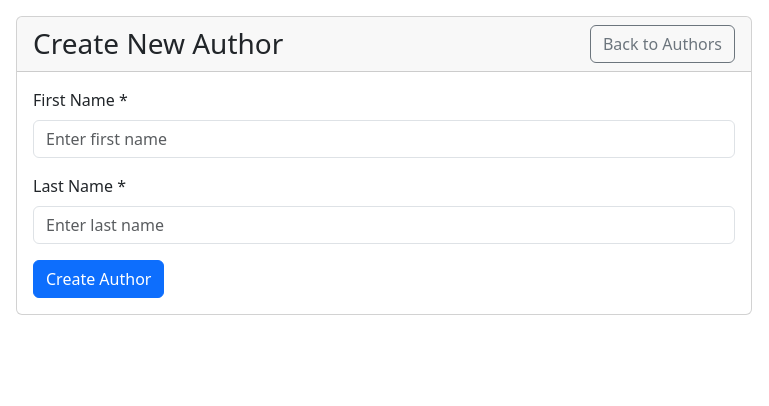
Test case: AuthorCreate › shows API error message when creation fails
In the field labelled "First Name *": (384, 139) [33,120,735,158], type "Jane"
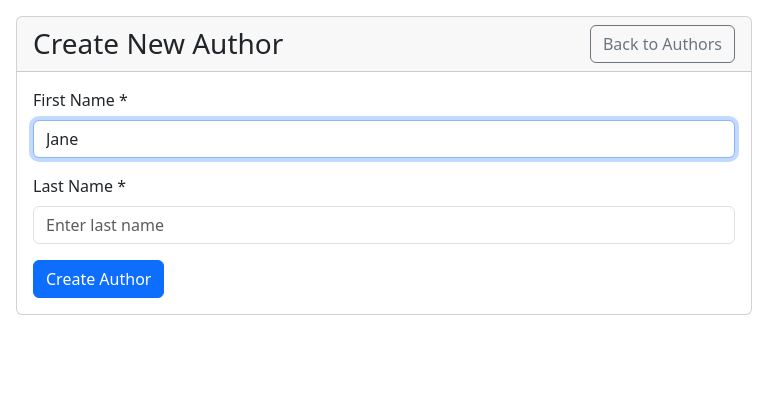
In the field labelled "Last Name *": (384, 225) [33,206,735,244], type "Smith"
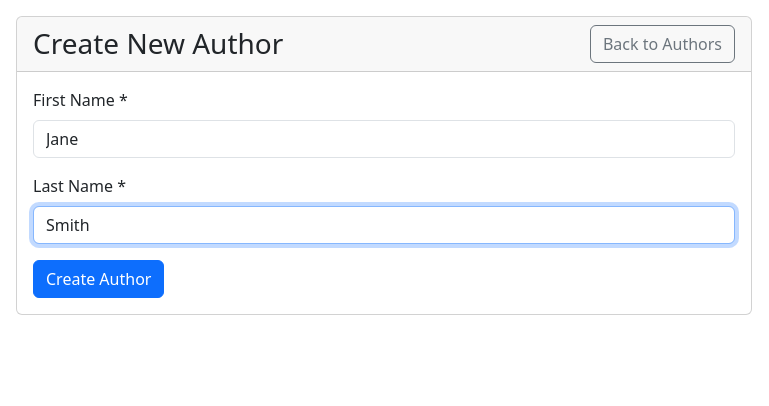
Click the button "Create Author": (99, 279) [33,260,164,298]
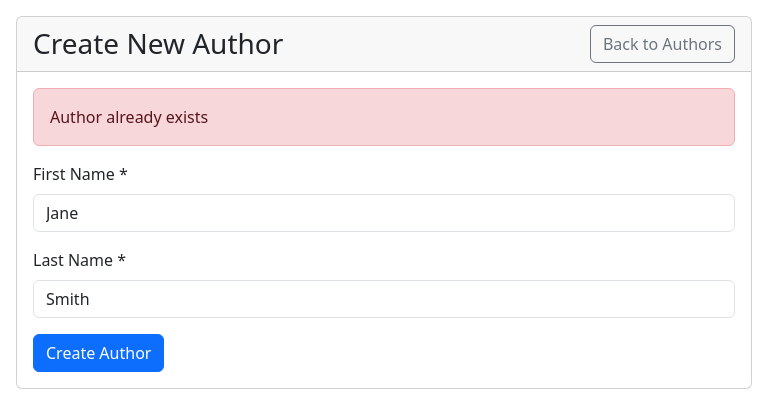
Expected: the text "Author already exists" is shown, [33,88,735,146]
